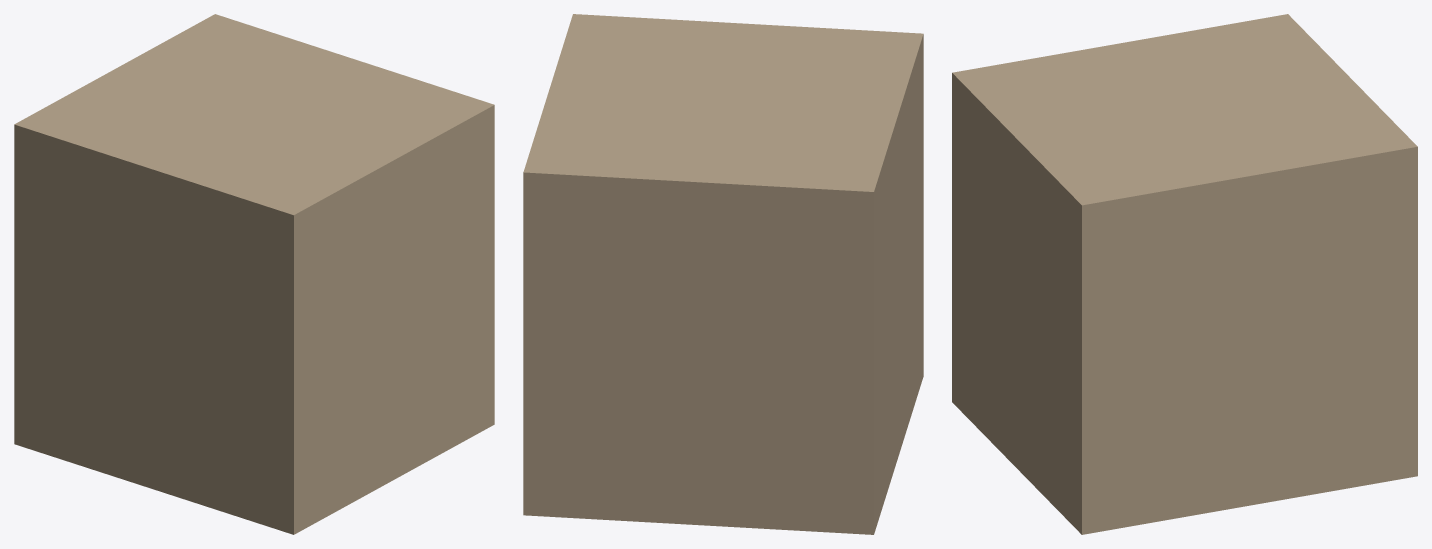
The model's file is bld_99867771.dae.
3 renders of one model, left to right at view 1: azimuth 30°, elevation 25°; view 2: azimuth 150°, elevation 25°; view 3: azimuth 270°, elevation 25°, orthographic. The views are drawn at different scales.
Parts seen in each view (by area): view 1: bld_99867771; view 2: bld_99867771; view 3: bld_99867771.
Boxes of the visible parts, <box> form: bld_99867771: <box>14,14,494,534</box>; bld_99867771: <box>523,14,923,534</box>; bld_99867771: <box>952,14,1417,534</box>.
Bounding box in the file's own units: 9.97 × 10.25 × 8.
